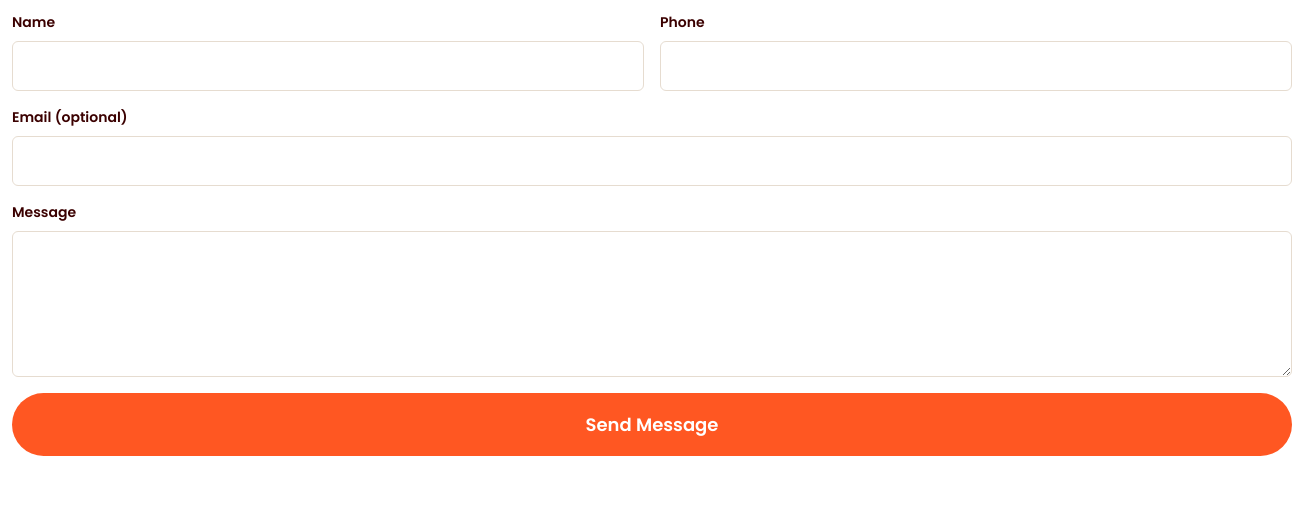
Scenario: ContactForm › submits successfully with valid data
Type "Rohan Kadam" into the field labelled "Name" at (328, 66), box [12,41,644,91]
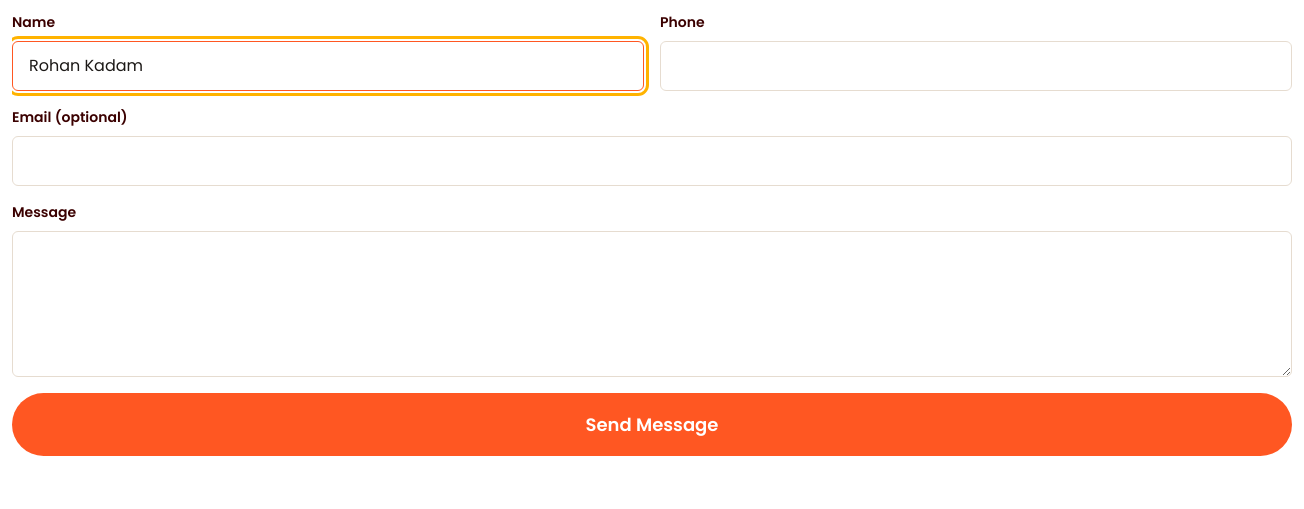
Type "9876543210" into the field labelled "Phone" at (976, 66), box [660,41,1292,91]
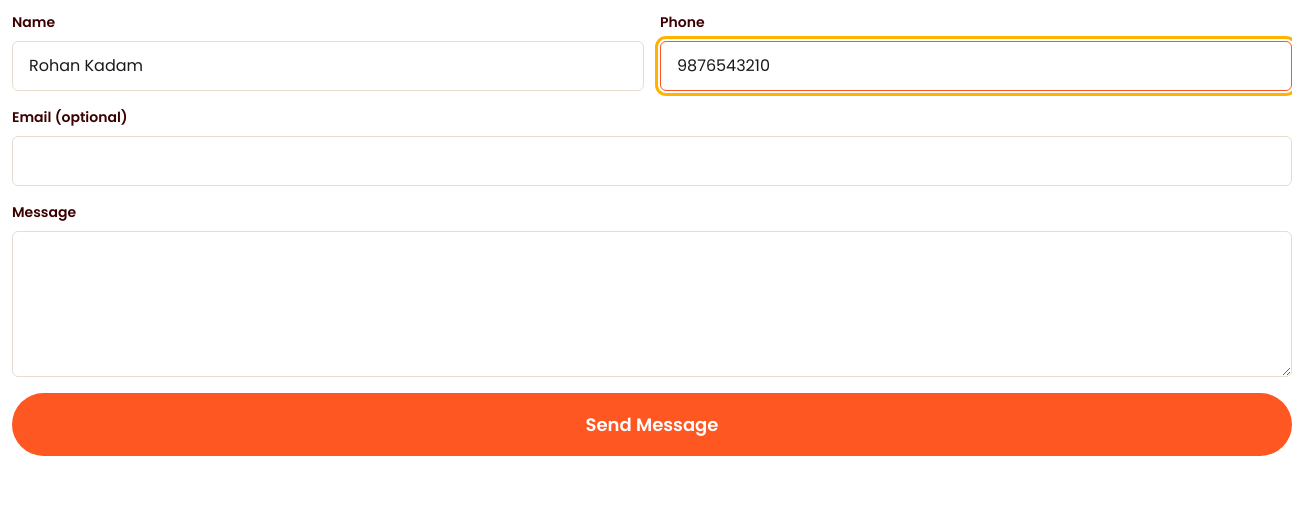
Type "Do you take large group bookings?" into the text box labelled "Message" at (652, 304), box [12,231,1292,377]
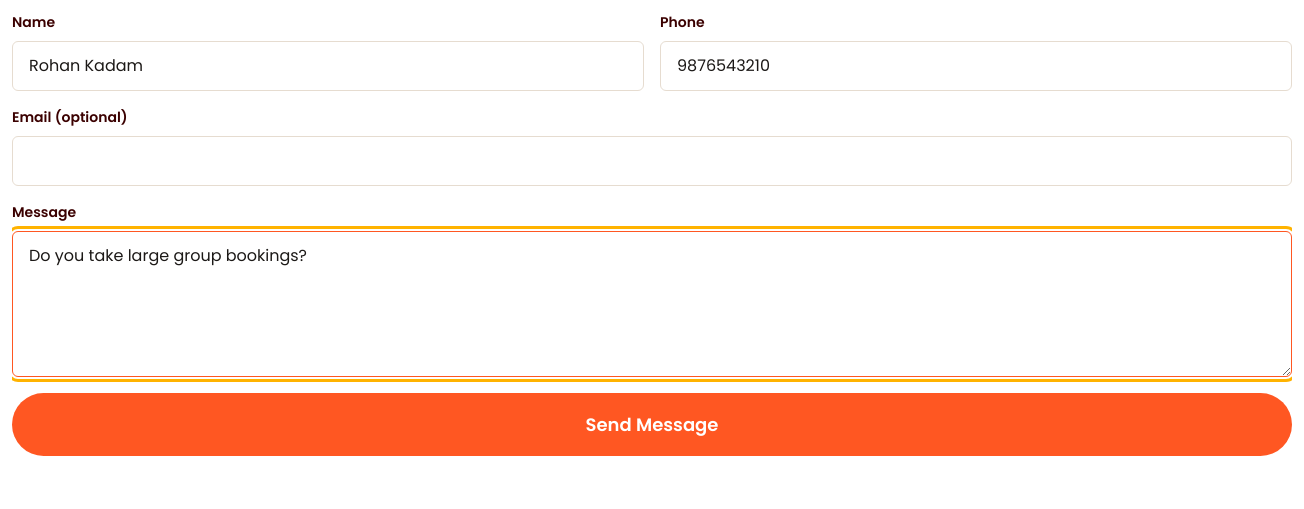
Click the button "Send Message" at (652, 424), box [12,393,1292,456]
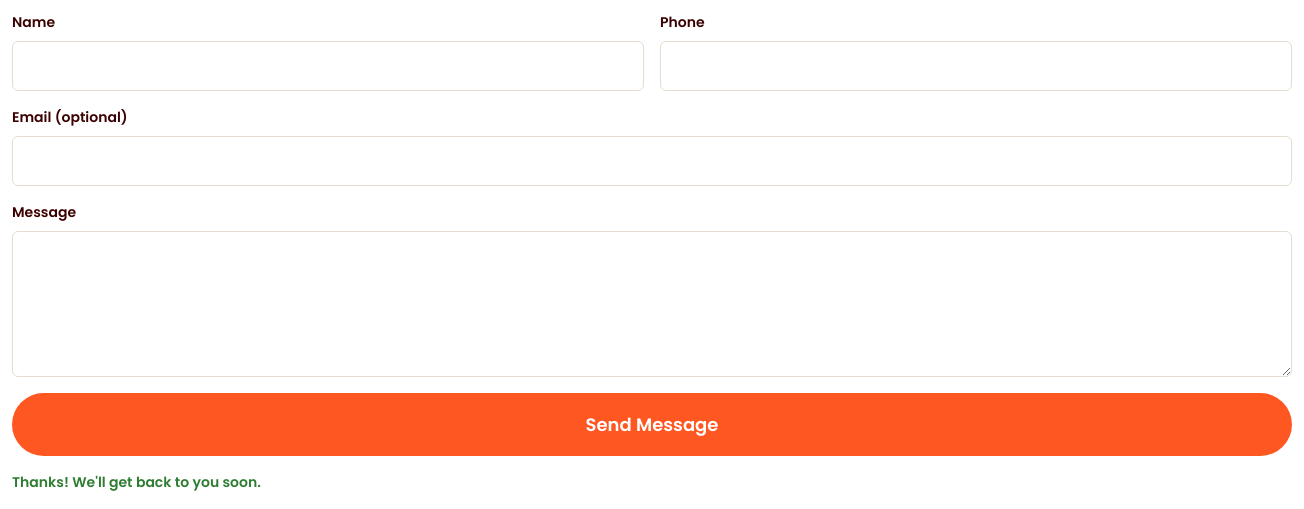
Result: the text "Thanks! We'll get back to you soon." is shown at [12,472,261,492]
